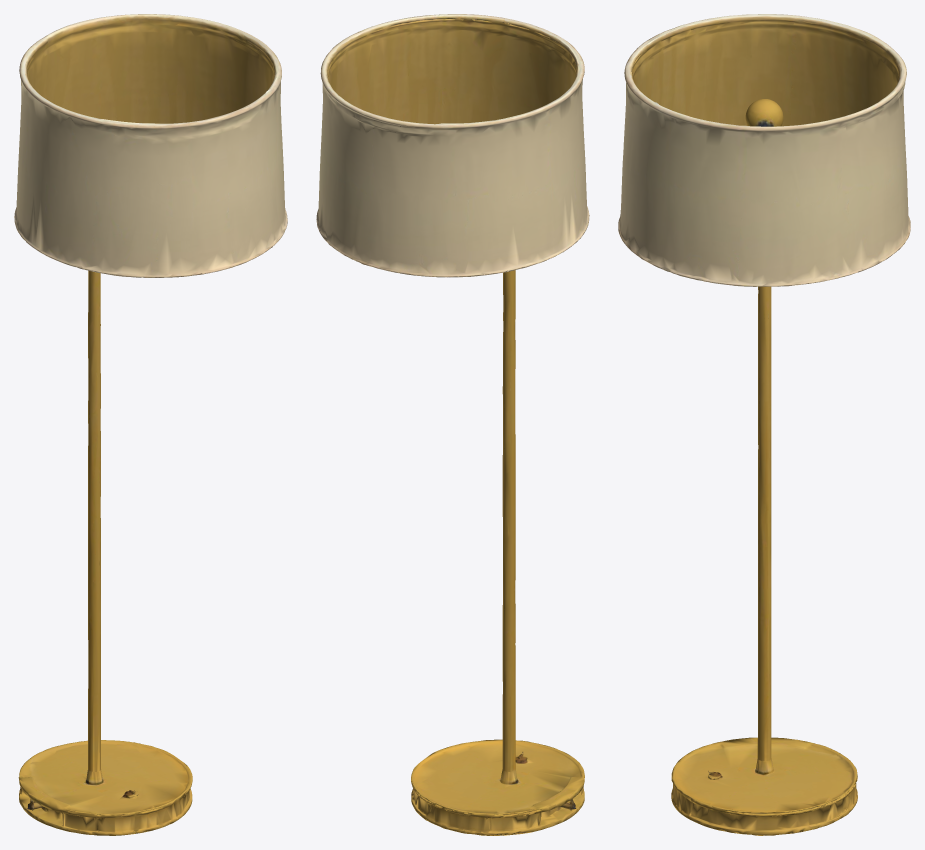
The model's file is floor-lamp.glb.
3 renders of one model, left to right at view 1: azimuth 30°, elevation 25°; view 2: azimuth 150°, elevation 25°; view 3: azimuth 270°, elevation 25°, orthographic. The views are drawn at different scales.
Visible parts, largest first — view 1: tripo_node_33de1821-415c-4019-bde3-86d9ff122d65; view 2: tripo_node_33de1821-415c-4019-bde3-86d9ff122d65; view 3: tripo_node_33de1821-415c-4019-bde3-86d9ff122d65.
Boxes of the visible parts, x1,y1,x2,y2 form: tripo_node_33de1821-415c-4019-bde3-86d9ff122d65: (14,14,287,835); tripo_node_33de1821-415c-4019-bde3-86d9ff122d65: (316,14,589,835); tripo_node_33de1821-415c-4019-bde3-86d9ff122d65: (618,14,910,835).
Bounding box in the file's own units: 0.3448 × 0.9816 × 0.3466.
Materials: 1 (1 with a texture image).
